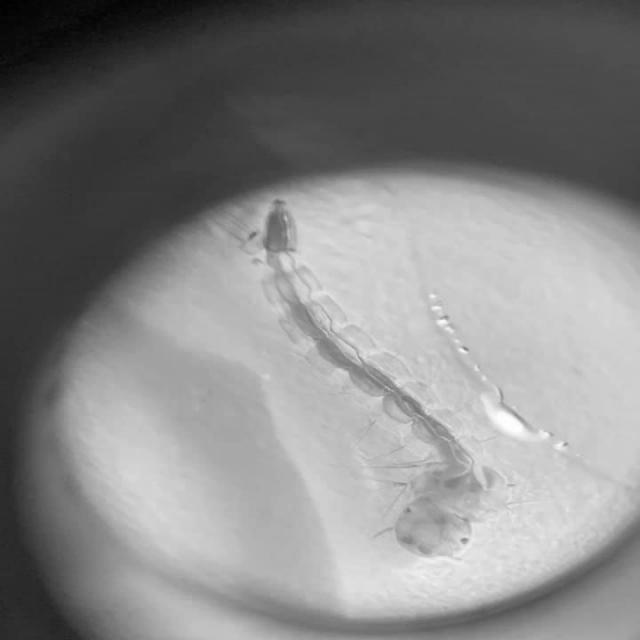larvas: (246, 202, 506, 553)
